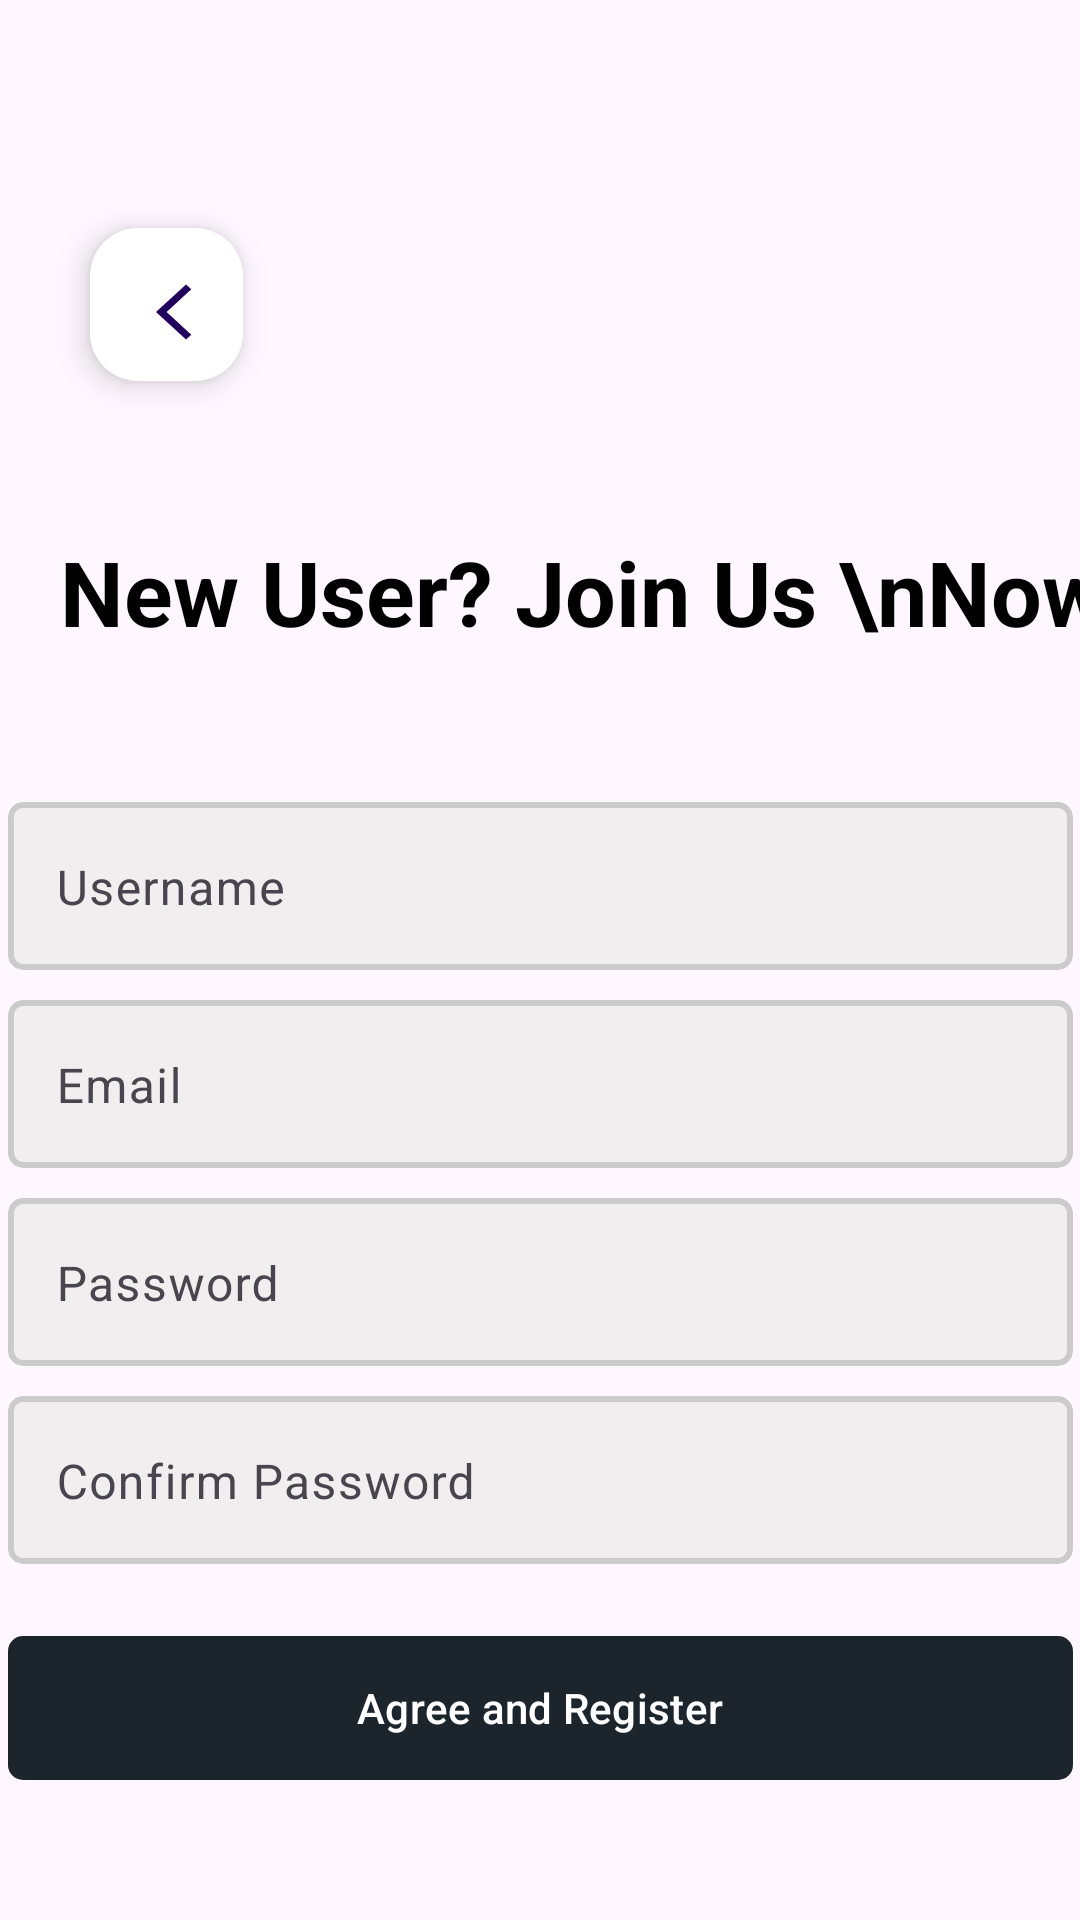

Where to tap for icons on this 1080 × 1920 app screen, as (x=x, y=y):
arrow back: (x=166, y=304)
